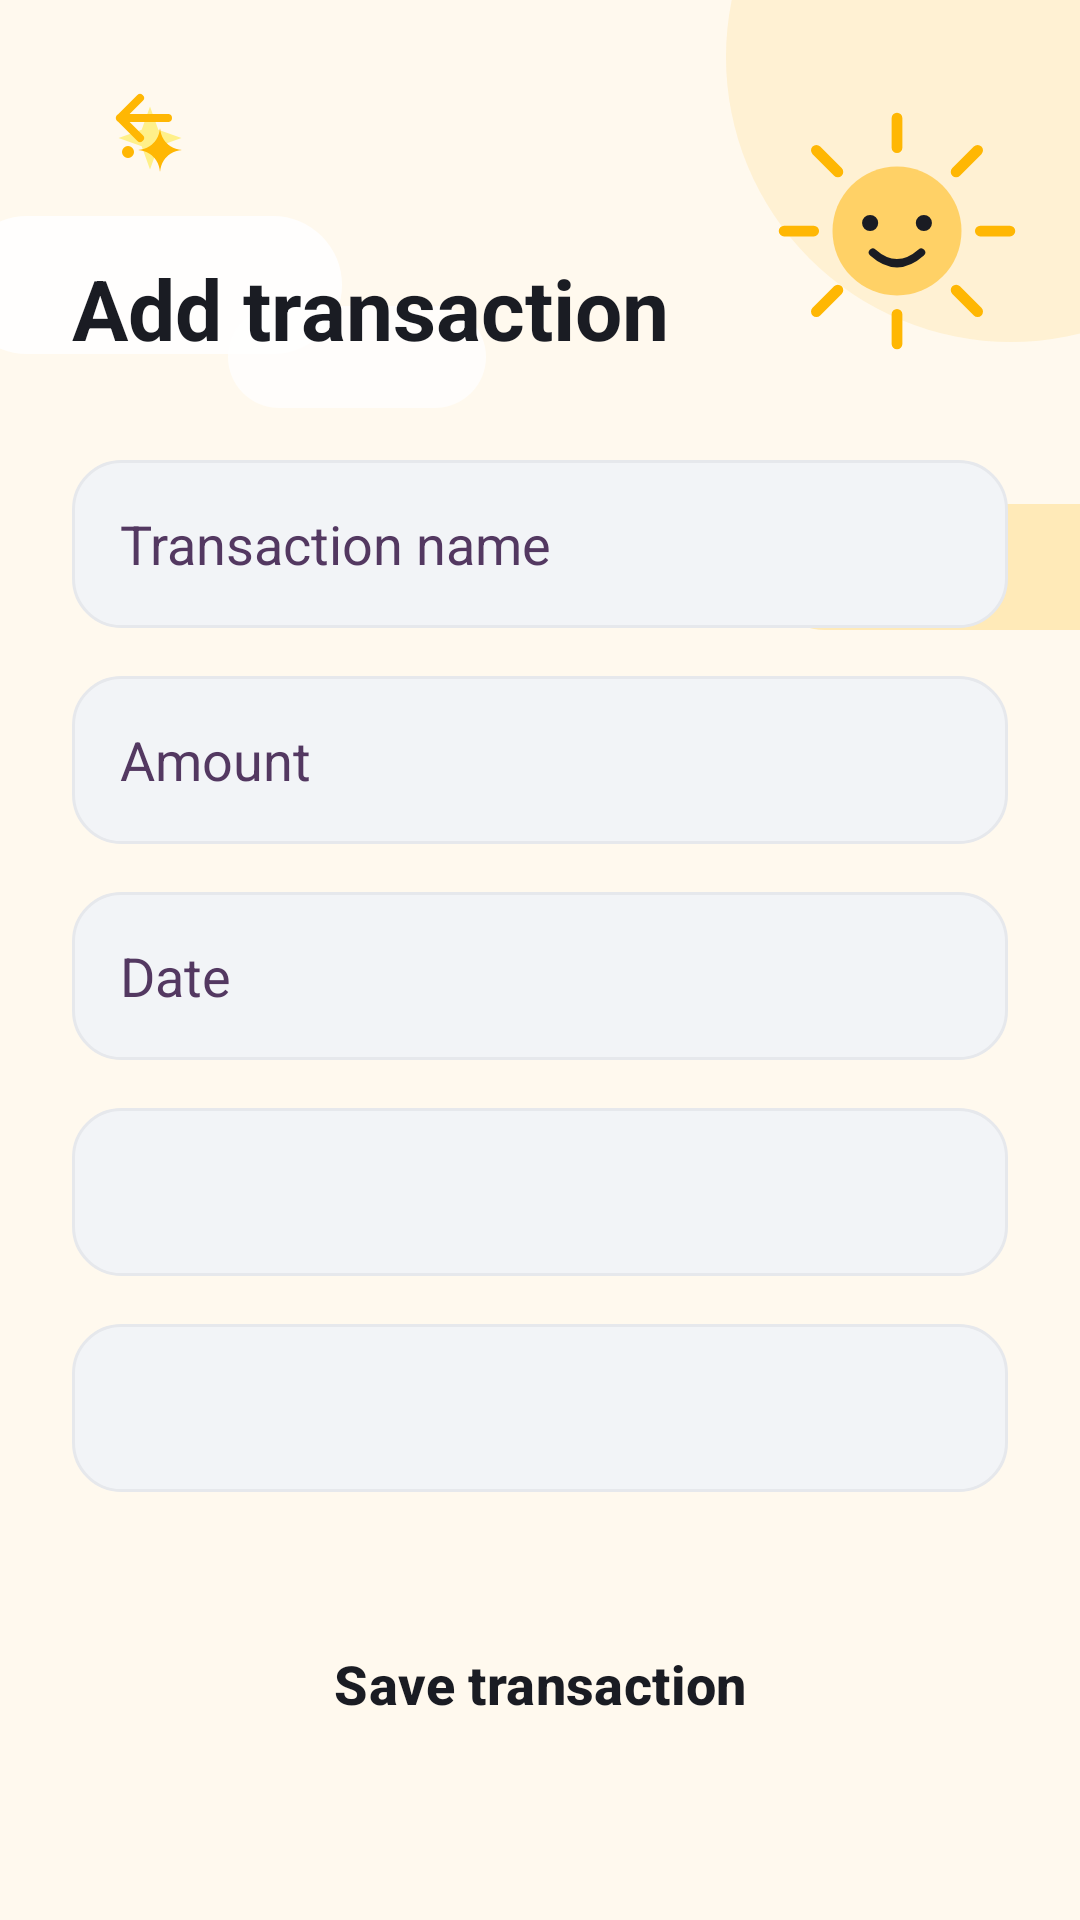

Named icons in this screenshot (1080*1920) and their bounding boxes, [x1,y1,x2,y2]:
arrow back: [115,93,181,171]
